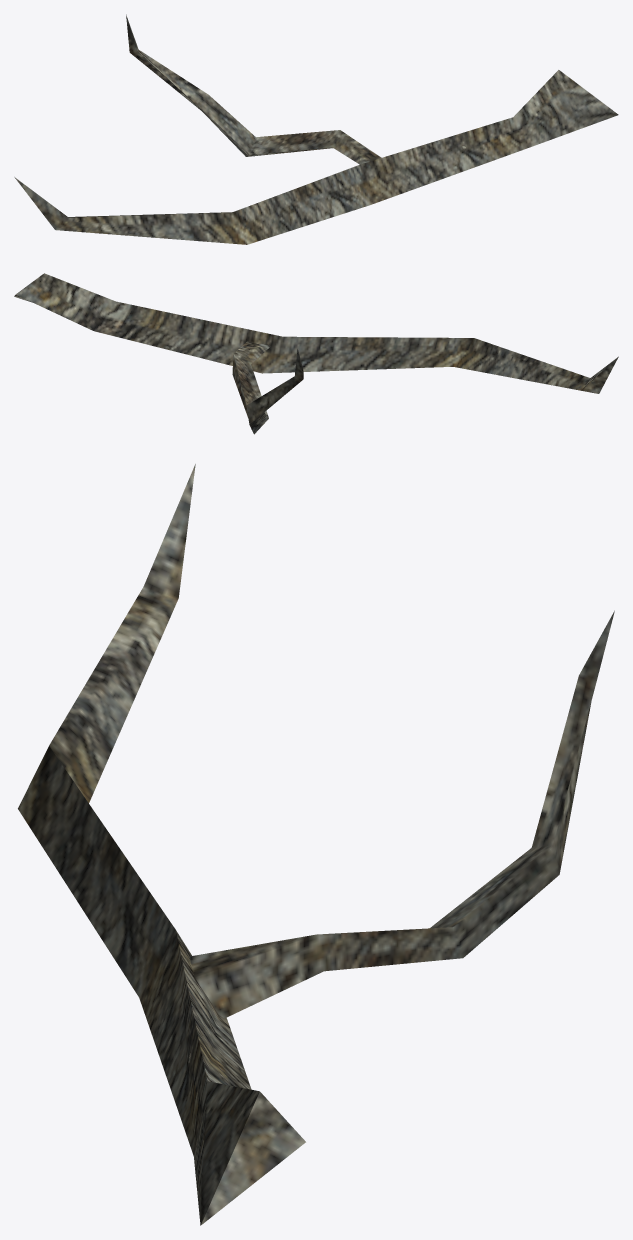
The model's file is Vatka_3.fbx.
3 views of the same model, one above another, from view 1: azimuth 30°, elevation 25°; view 2: azimuth 150°, elevation 25°; view 3: azimuth 270°, elevation 25° (orthographic). The views are drawn at different scales.
Parts seen in each view (by area): view 1: Vetky:polySurface220; view 2: Vetky:polySurface220; view 3: Vetky:polySurface220.
Boxes of the visible parts, bbox=[...] form: Vetky:polySurface220: bbox=[14, 14, 618, 244]; Vetky:polySurface220: bbox=[14, 273, 618, 434]; Vetky:polySurface220: bbox=[18, 464, 614, 1225].
Bounding box in the file's own units: 2037 × 434 × 873.
